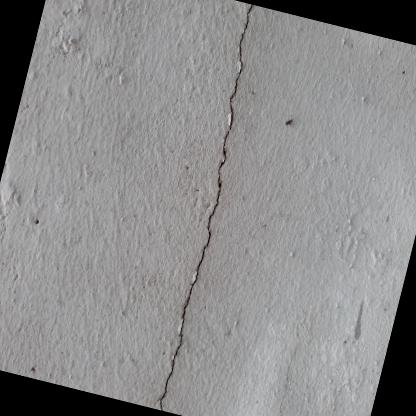crack: (160, 5, 254, 411)
